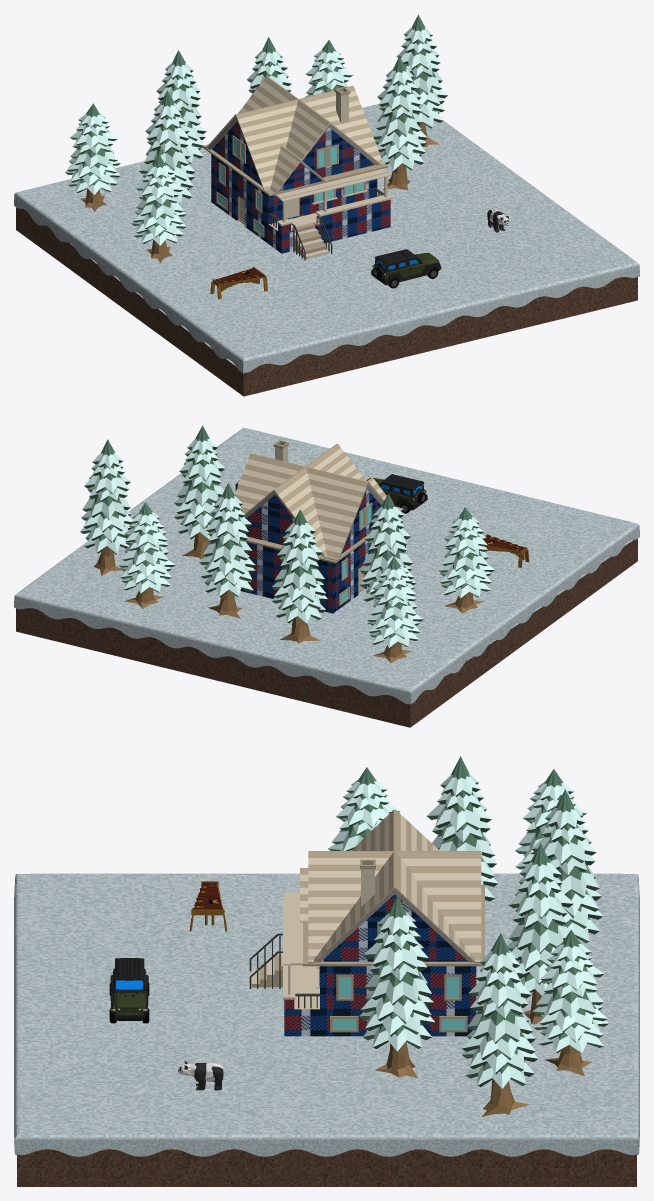
3 views of the same model, one above another, from view 1: azimuth 30°, elevation 25°; view 2: azimuth 150°, elevation 25°; view 3: azimuth 270°, elevation 25° (orthographic). The views are drawn at different scales.
Visible parts, largest first — view 1: Cube.003, Cube.171, VEHICLES_JEEP, OBJRANDOM_MARIMBA; view 2: Cube.003, Cube.171, VEHICLES_JEEP, OBJRANDOM_MARIMBA; view 3: Cube.003, Cube.171, VEHICLES_JEEP, OBJRANDOM_MARIMBA, ANIMAL_PANDA.
Boxes of the visible parts, x1,y1,x2,y2 form: Cube.003: (14, 14, 639, 396); Cube.171: (202, 76, 393, 260); VEHICLES_JEEP: (371, 249, 441, 288); OBJRANDOM_MARIMBA: (210, 266, 267, 299); Cube.003: (14, 425, 639, 727); Cube.171: (234, 440, 405, 613); VEHICLES_JEEP: (366, 474, 427, 513); OBJRANDOM_MARIMBA: (484, 534, 529, 567); Cube.003: (14, 756, 639, 1186); Cube.171: (249, 809, 484, 1036); VEHICLES_JEEP: (109, 958, 149, 1023); OBJRANDOM_MARIMBA: (189, 881, 226, 931); ANIMAL_PANDA: (178, 1061, 223, 1090).
Size of the model in its own units: 4040 by 1692 by 4040.
Materials: 29 (4 with a texture image).
